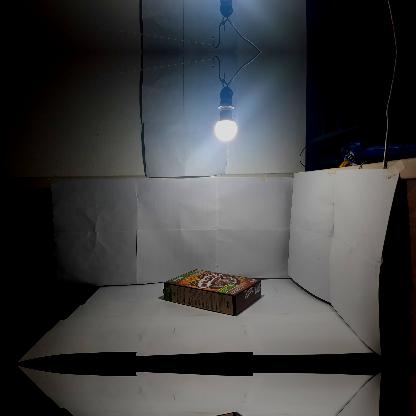Koko-Krunch: (163, 268, 261, 315)
